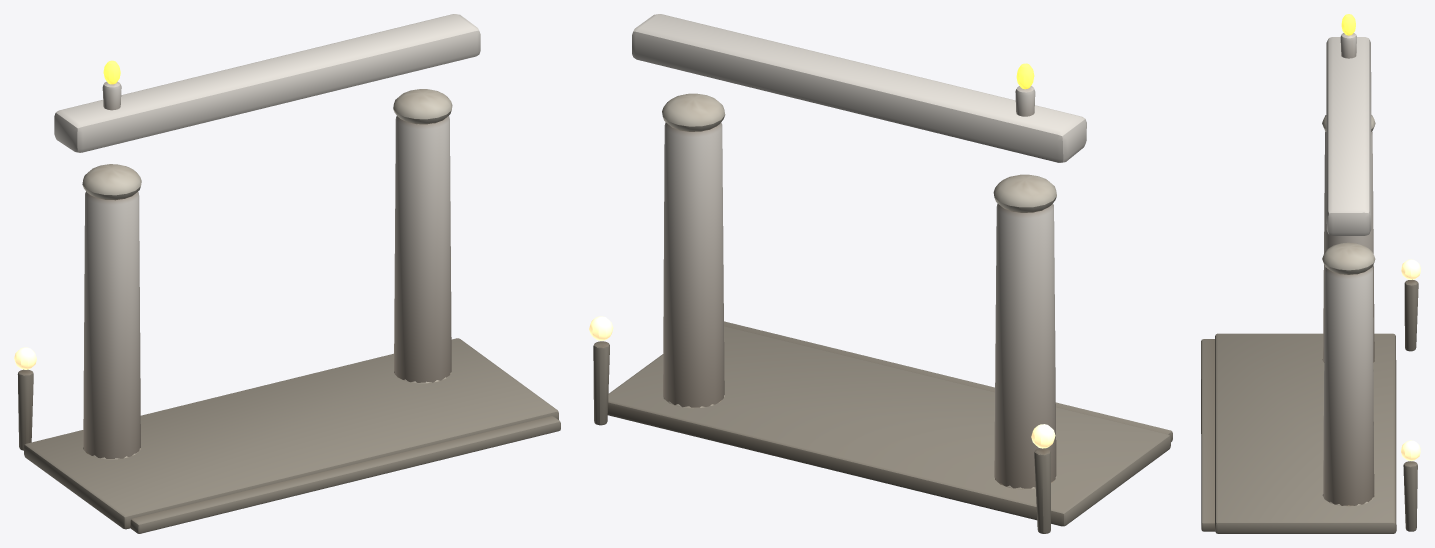
3 renders of one model, left to right at view 1: azimuth 30°, elevation 25°; view 2: azimuth 150°, elevation 25°; view 3: azimuth 270°, elevation 25°, orthographic. The views are drawn at different scales.
Visible parts, largest first — view 1: gate_fb097c91; view 2: gate_fb097c91; view 3: gate_fb097c91.
Boxes of the visible parts, x1=… form: gate_fb097c91: x1=14, y1=14, x2=560, y2=533; gate_fb097c91: x1=589, y1=14, x2=1172, y2=533; gate_fb097c91: x1=1201, y1=14, x2=1420, y2=533.
Size of the model in its own units: 5.22 by 4.58 by 2.55.
